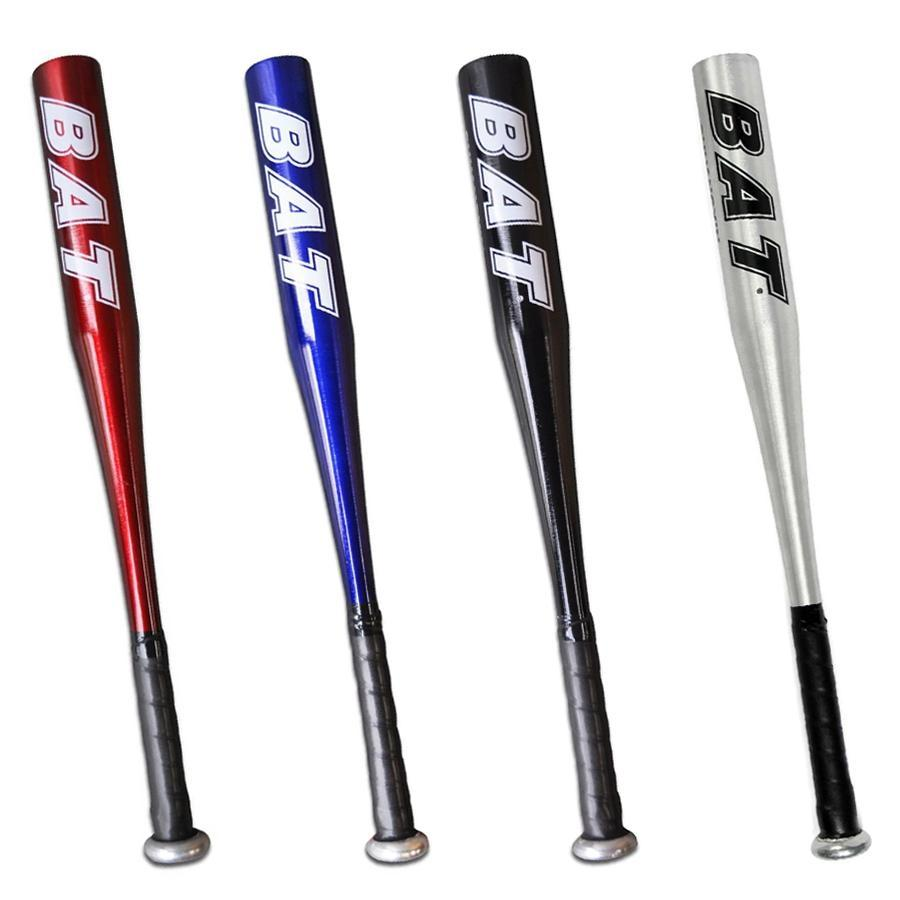Baseball-Bat: (224, 25, 438, 874), (14, 22, 219, 868), (445, 30, 645, 875), (685, 45, 880, 869)
